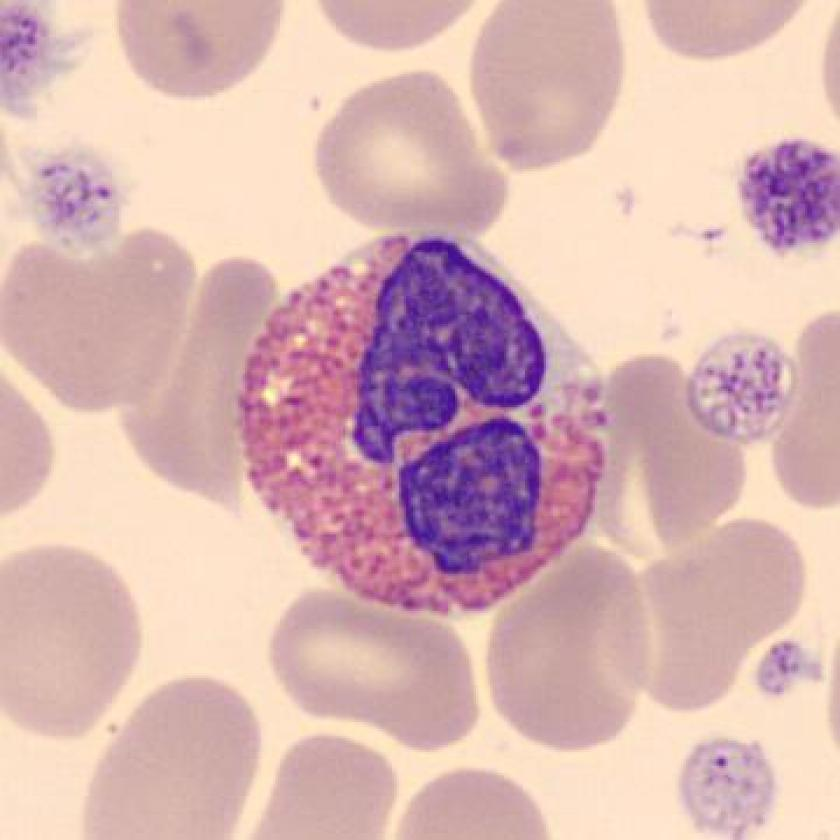eosinophil: (227, 212, 622, 635)
